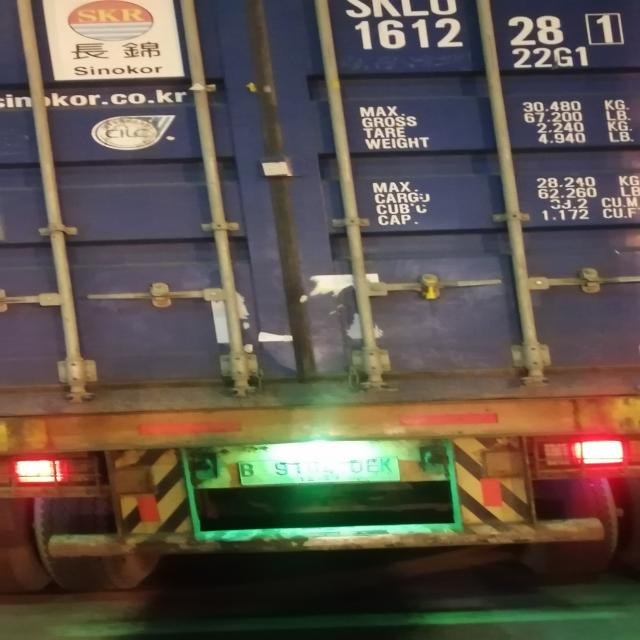seal: (424, 279, 436, 299)
